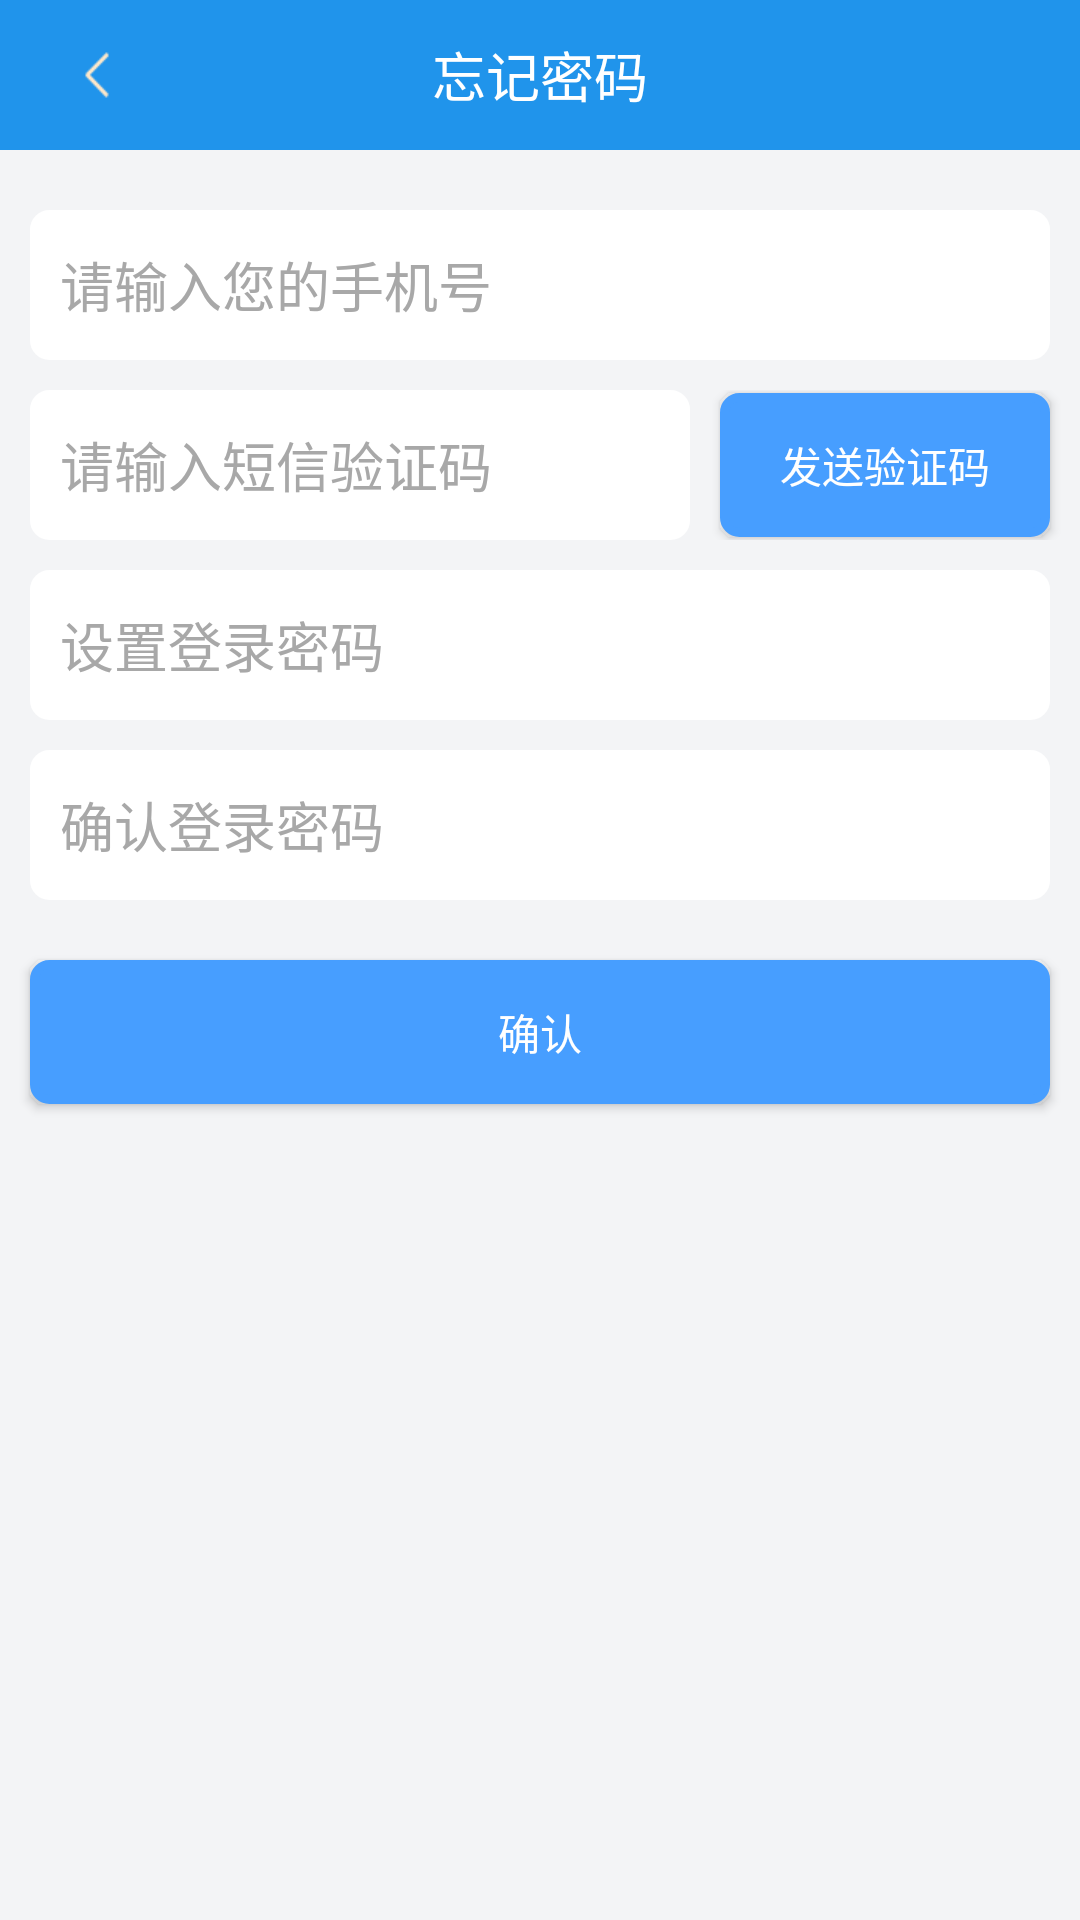

Icons on this 1080x1920 Android screen, each with its box as (x1, y1, x2, y2):
register back: (85, 52, 109, 98)
